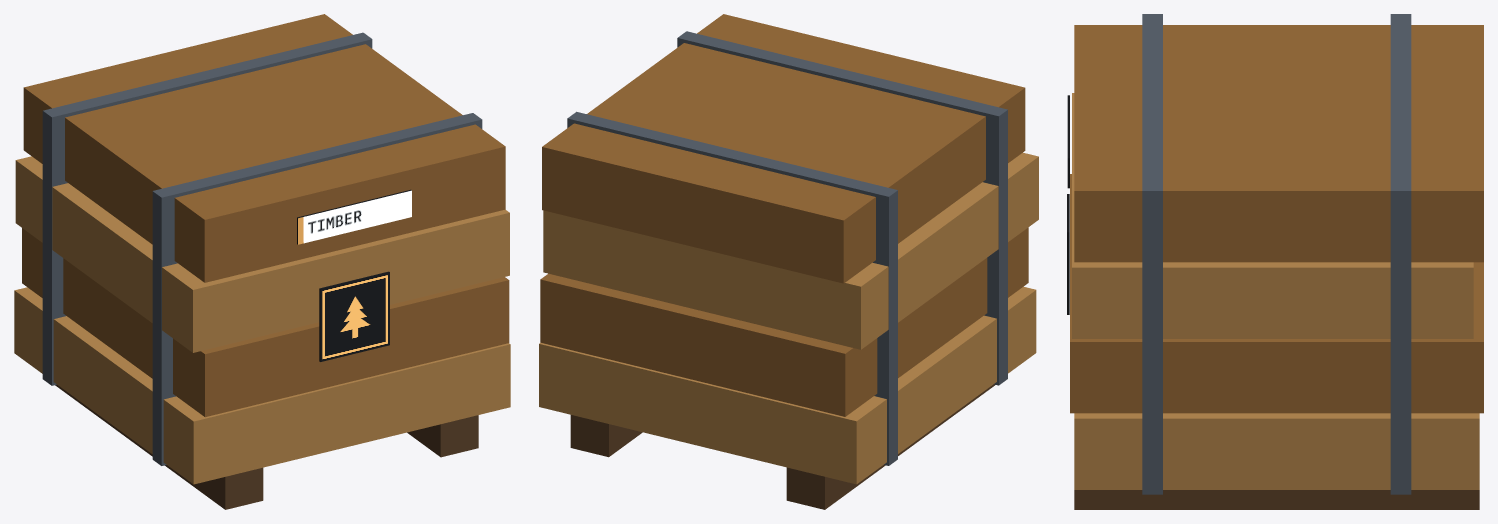
The model's file is cargo_09_lumber.glb.
3 renders of one model, left to right at view 1: azimuth 30°, elevation 25°; view 2: azimuth 150°, elevation 25°; view 3: azimuth 270°, elevation 25°, orthographic. The views are drawn at different scales.
Visible parts, largest first — view 1: layer_4, layer_1, layer_3, layer_2, strap_2, strap_1, tag_front, manifest, skid_1, skid_2; view 2: layer_4, layer_1, layer_3, layer_2, strap_1, strap_2, skid_1, skid_2; view 3: layer_4, layer_2, layer_3, layer_1, strap_2, strap_1, skid_2.
Part boxes in pixels (x1=…): layer_4: x1=23, y1=14, x2=505, y2=282; layer_1: x1=14, y1=287, x2=510, y2=484; layer_3: x1=15, y1=156, x2=509, y2=352; layer_2: x1=22, y1=228, x2=509, y2=417; strap_2: x1=42, y1=32, x2=372, y2=385; strap_1: x1=152, y1=113, x2=482, y2=465; tag_front: x1=319, y1=271, x2=389, y2=361; manifest: x1=297, y1=189, x2=411, y2=244; skid_1: x1=55, y1=384, x2=263, y2=509; skid_2: x1=407, y1=415, x2=478, y2=457; layer_4: x1=542, y1=14, x2=1025, y2=283; layer_1: x1=539, y1=286, x2=1036, y2=484; layer_3: x1=543, y1=152, x2=1038, y2=349; layer_2: x1=540, y1=227, x2=1028, y2=416; strap_1: x1=677, y1=31, x2=1007, y2=385; strap_2: x1=567, y1=111, x2=897, y2=465; skid_1: x1=786, y1=384, x2=995, y2=509; skid_2: x1=570, y1=415, x2=642, y2=457; layer_4: x1=1074, y1=25, x2=1483, y2=262; layer_2: x1=1070, y1=174, x2=1483, y2=413; layer_3: x1=1072, y1=93, x2=1473, y2=338; layer_1: x1=1074, y1=413, x2=1479, y2=489; strap_2: x1=1390, y1=14, x2=1411, y2=494; strap_1: x1=1142, y1=14, x2=1162, y2=494; skid_2: x1=1074, y1=490, x2=1479, y2=509.
Bounding box in the file's own units: 1.01 × 0.9 × 1.01.
Materials: 7 (2 with a texture image).
